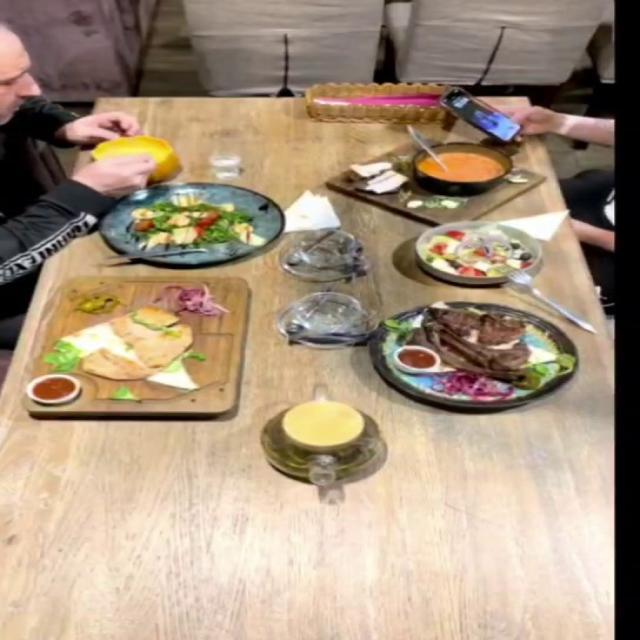alcohol: (206, 134, 260, 184)
meat: (366, 301, 579, 409)
salat: (95, 183, 281, 265), (414, 220, 545, 285)
soup: (316, 143, 544, 228), (90, 136, 178, 183)
tea: (281, 400, 365, 447)
